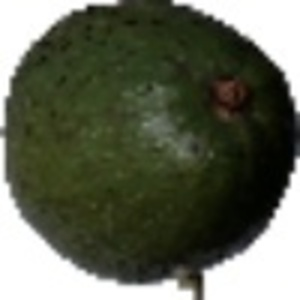abacate: (6, 2, 294, 280)
